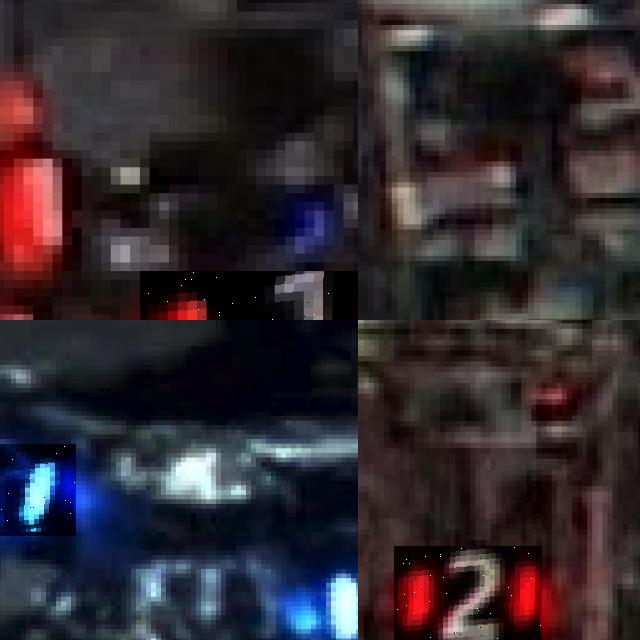Bs: (0, 443, 76, 536), (316, 559, 358, 640)
R1: (139, 271, 358, 320)
R2: (394, 545, 541, 640)
